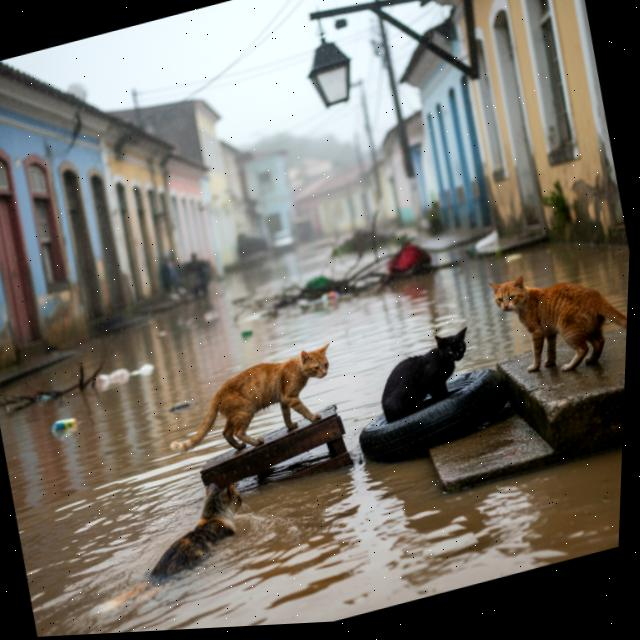cat: (144, 329, 360, 479), (75, 461, 279, 612), (479, 242, 630, 404), (363, 314, 487, 425)
